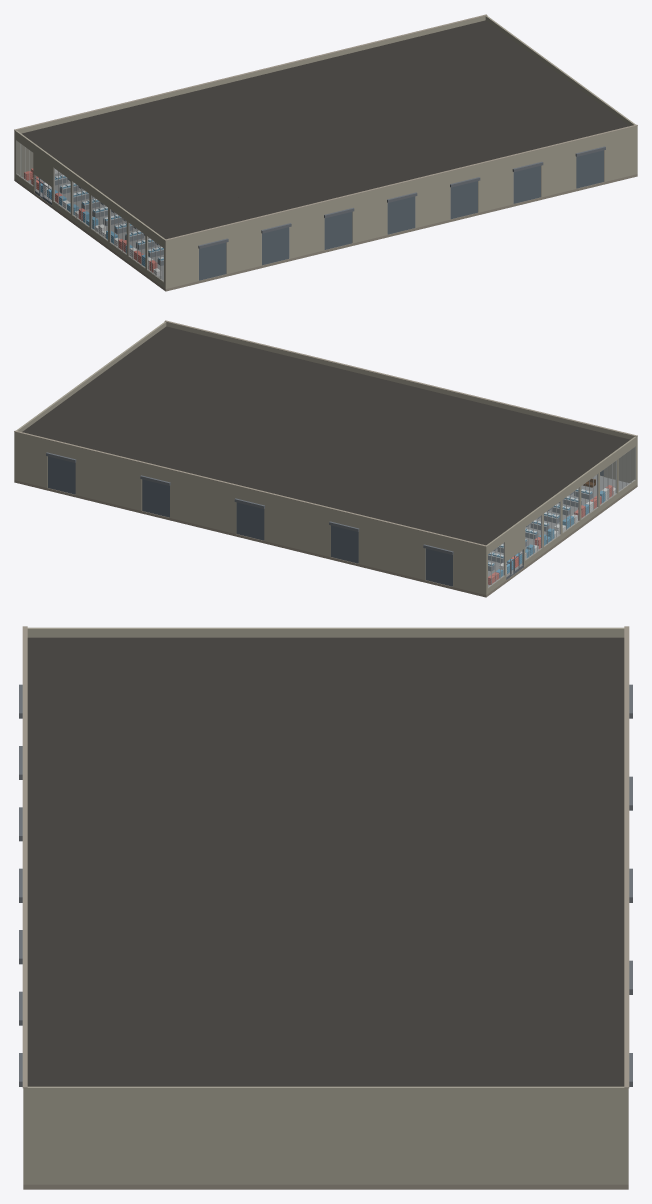
Rendered from fish_market.glb.
3 renders of one model, top to bottom at view 1: azimuth 30°, elevation 25°; view 2: azimuth 150°, elevation 25°; view 3: azimuth 270°, elevation 25°, orthographic. The views are drawn at different scales.
Visible parts, largest first — view 1: LOD0, FURN; view 2: LOD0, FURN; view 3: LOD0.
Part boxes in pixels (left/top/right/bottom): LOD0: left=14, top=14, right=637, bottom=291; FURN: left=24, top=168, right=163, bottom=276; LOD0: left=14, top=320, right=637, bottom=597; FURN: left=488, top=478, right=615, bottom=584; LOD0: left=19, top=626, right=632, bottom=1189.
Size of what is drawn, in the model's own units: 90.1 by 9.33 by 50.7.
